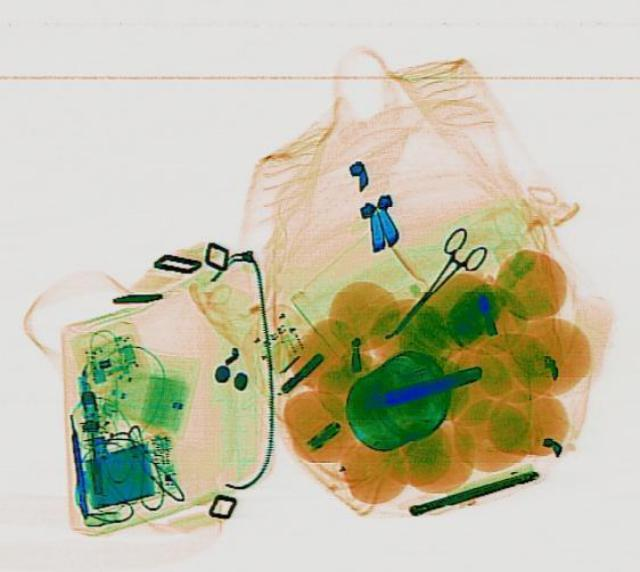Scissors: (362, 222, 496, 348)
